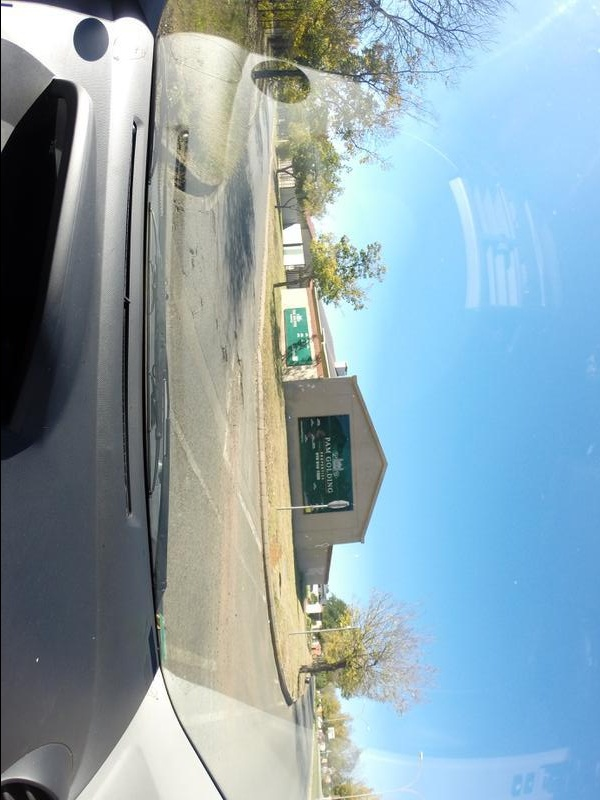pothole: (219, 331, 251, 468)
